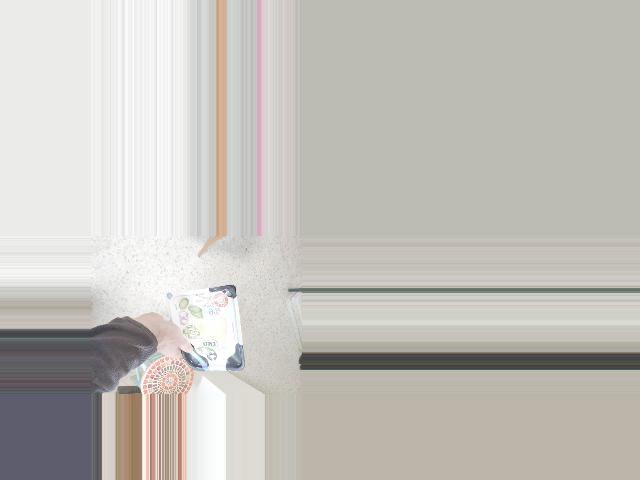cheese: (154, 286, 220, 359)
